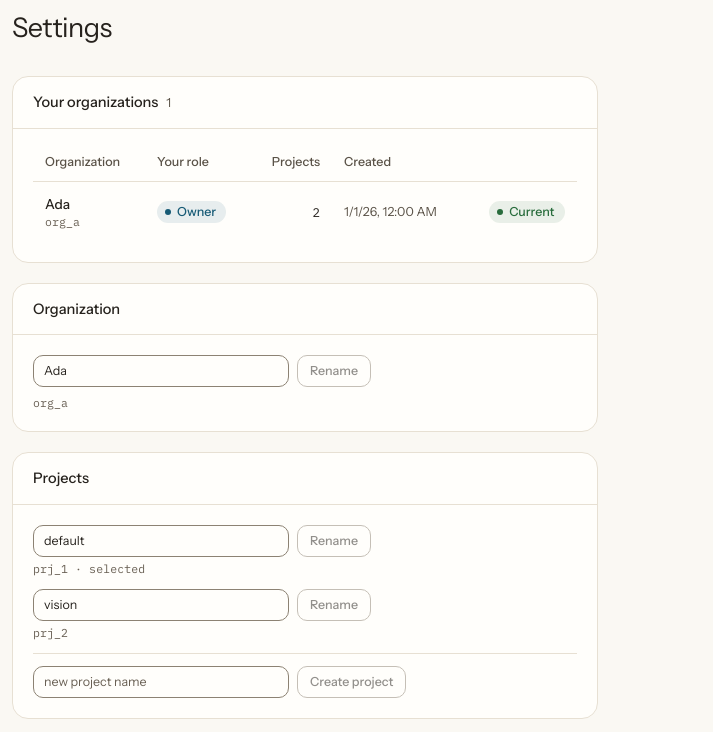
Test: creating a project › shows a taken name as the API says it
Type "vision" into the field labelled "new project name" at (161, 682), box [33,666,289,698]
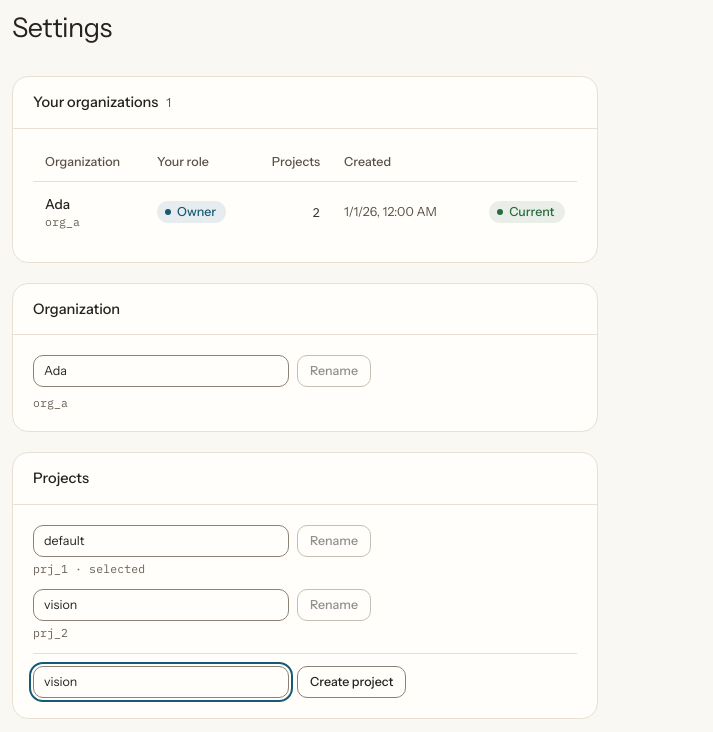
Click the button "Create project" at (352, 682), box [297,666,406,698]
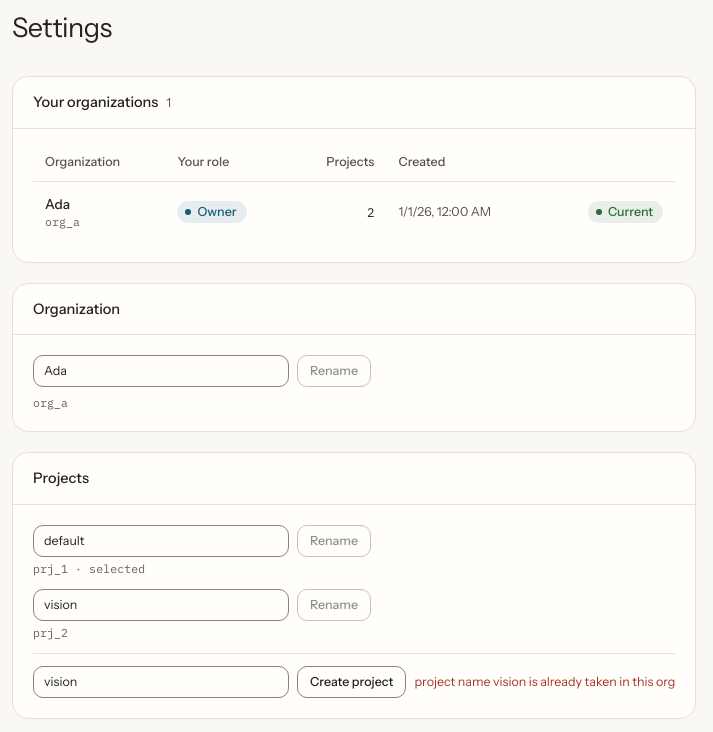
expect the text "project name vision is already taken in this org" is shown: met, box [414,673,675,691]
